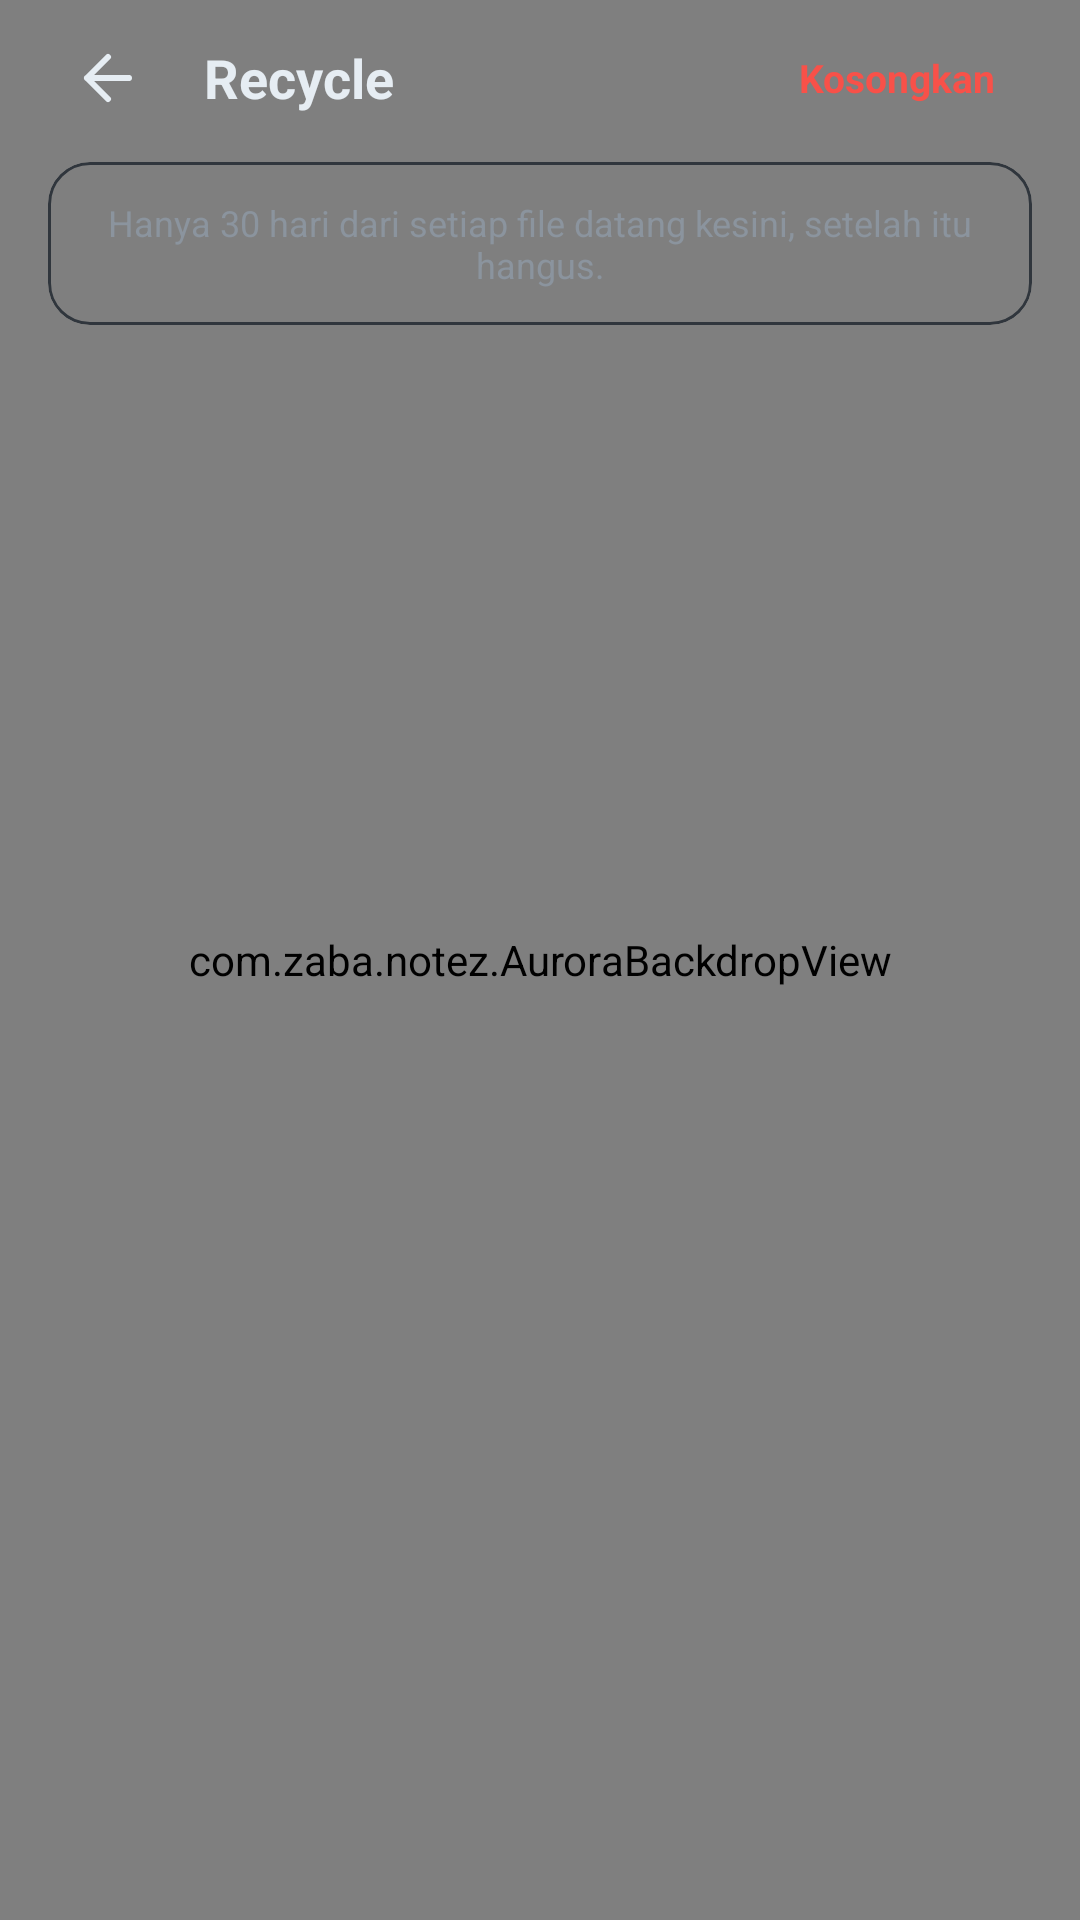

Where to tap for icons on this 1080px x 1920px app screen, as [x,y]:
Kembali: [108,78]
